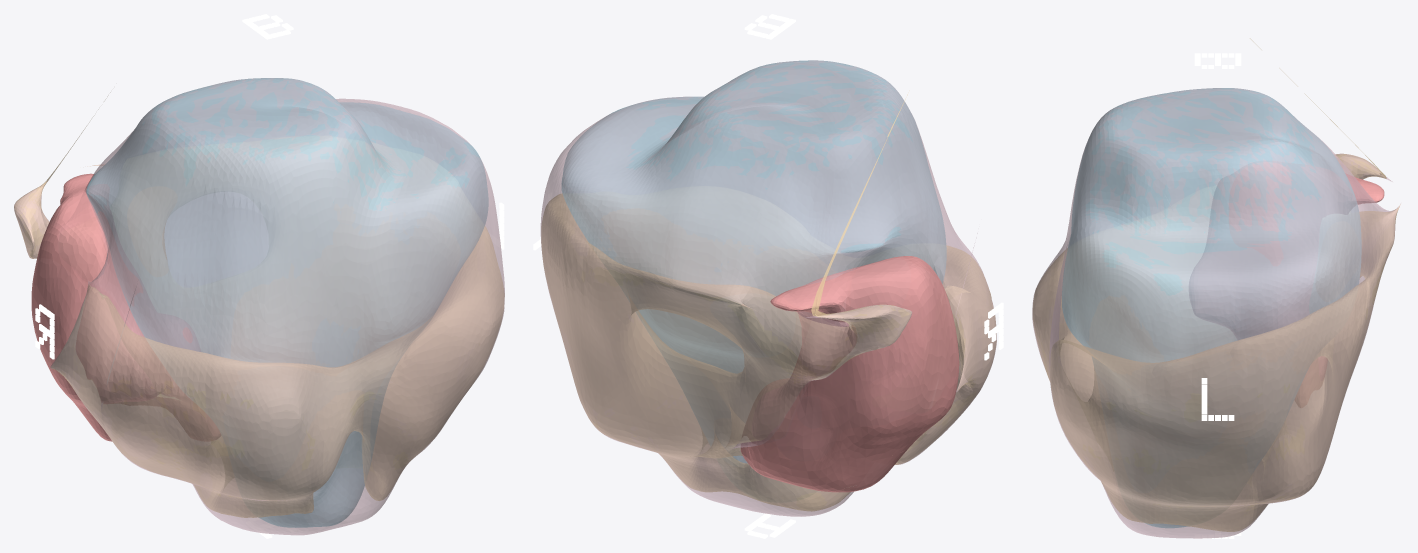
3 views of the same model, side by side, from view 1: azimuth 30°, elevation 25°; view 2: azimuth 150°, elevation 25°; view 3: azimuth 270°, elevation 25° (orthographic). The views are drawn at different scales.
Visible parts, largest first — view 1: prostate_gland, transition_zone, peripheral_zone, lesion_01, pv_ar_marker_B, pv_ar_marker_R; view 2: prostate_gland, transition_zone, peripheral_zone, lesion_01, pv_ar_marker_B, pv_ar_marker_R, pv_ar_marker_A; view 3: prostate_gland, transition_zone, peripheral_zone, lesion_01, pv_ar_marker_B, pv_ar_marker_L.
Part boxes in pixels (left/top/right/bottom): prostate_gland: left=14, top=78, right=504, bottom=535; transition_zone: left=86, top=78, right=488, bottom=527; peripheral_zone: left=14, top=92, right=504, bottom=517; lesion_01: left=31, top=173, right=220, bottom=441; pv_ar_marker_B: left=242, top=14, right=293, bottom=39; pv_ar_marker_R: left=35, top=304, right=54, bottom=359; prostate_gland: left=540, top=60, right=996, bottom=516; transition_zone: left=561, top=60, right=946, bottom=463; peripheral_zone: left=541, top=94, right=996, bottom=511; lesion_01: left=740, top=256, right=959, bottom=492; pv_ar_marker_B: left=744, top=14, right=795, bottom=39; pv_ar_marker_R: left=984, top=302, right=1003, bottom=360; pv_ar_marker_A: left=744, top=513, right=795, bottom=538; prostate_gland: left=1032, top=88, right=1400, bottom=538; transition_zone: left=1062, top=88, right=1361, bottom=527; peripheral_zone: left=1033, top=38, right=1400, bottom=531; lesion_01: left=1189, top=161, right=1384, bottom=407; pv_ar_marker_B: left=1194, top=53, right=1241, bottom=68; pv_ar_marker_L: left=1201, top=378, right=1234, bottom=420.
Size of the model in its own units: 0.042 by 0.0446 by 0.0318.
